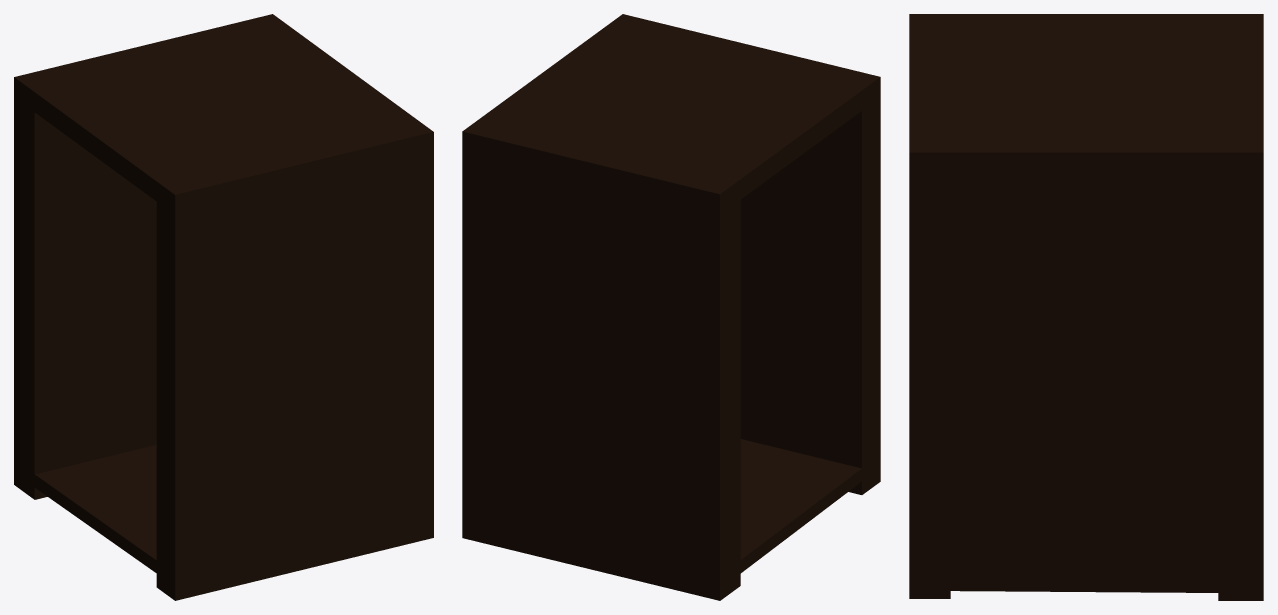
The model's file is schrank.glb.
3 views of the same model, side by side, from view 1: azimuth 30°, elevation 25°; view 2: azimuth 150°, elevation 25°; view 3: azimuth 270°, elevation 25° (orthographic). The views are drawn at different scales.
Visible parts, largest first — view 1: leftSide; view 2: leftSide; view 3: leftSide.
Part boxes in pixels (bbox=[...]): leftSide: bbox=[14, 14, 433, 600]; leftSide: bbox=[462, 14, 880, 600]; leftSide: bbox=[909, 14, 1263, 600].
Bounding box in the file's own units: 4 × 6.03 × 4.31.
